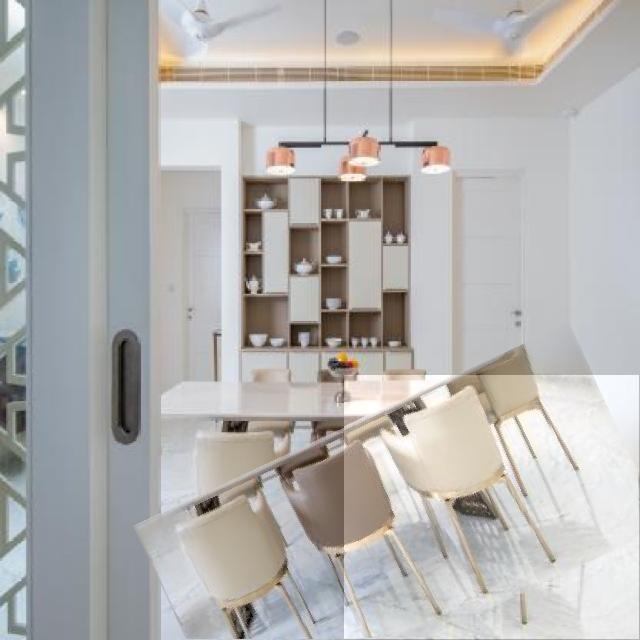floor: (344, 375, 639, 639), (262, 477, 368, 640), (133, 507, 230, 640), (242, 589, 306, 640), (244, 640, 245, 640)
